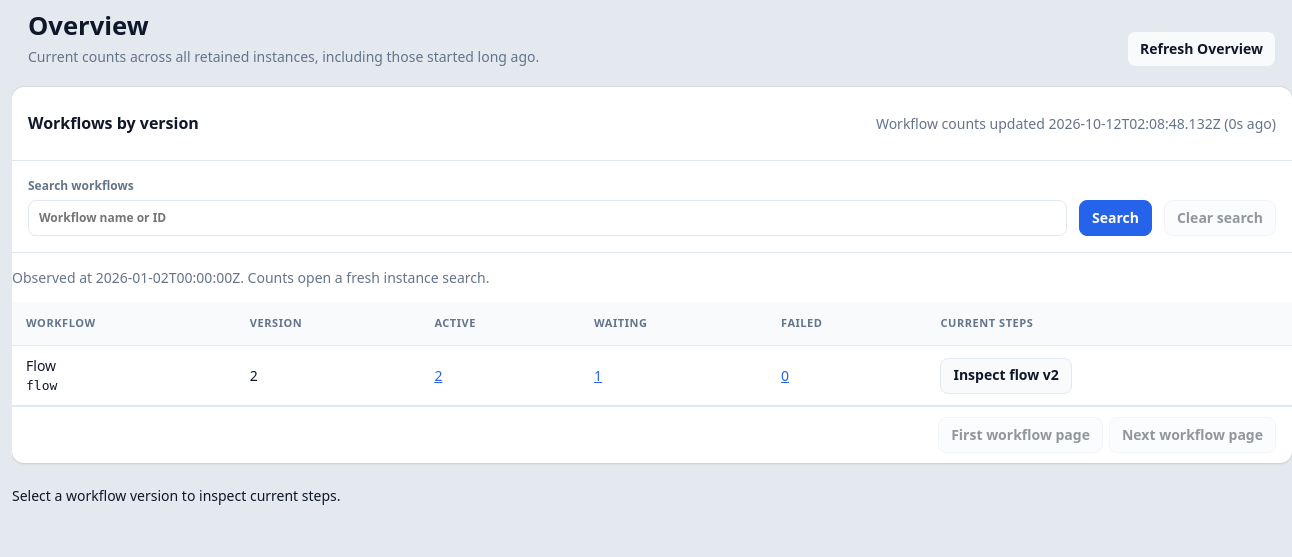
Test: retains counts after refresh errors and recovers without reporting a healthy zero
The image size is (1292, 557).
Check: the button "Inspect flow v2" is shown, box x1=940 y1=358 x2=1072 y2=394
Click the button "Refresh Overview" at (1202, 49), box x1=1127 y1=31 x2=1276 y2=67
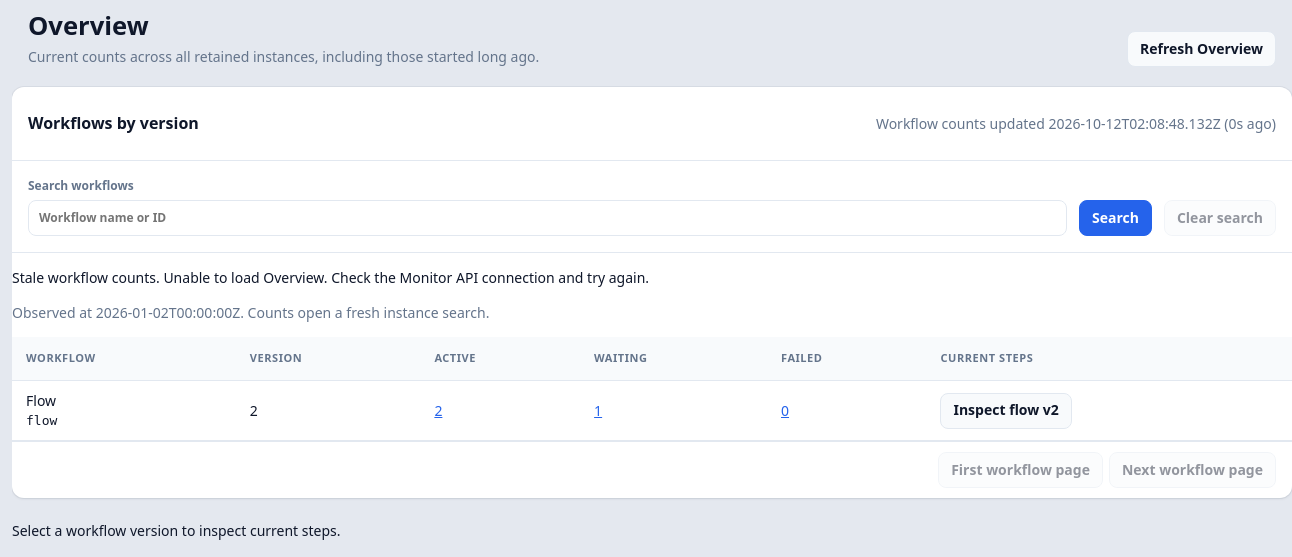
Check: the button "Inspect flow v2" is shown, box x1=940 y1=393 x2=1072 y2=429
Check: the text "Stale workflow counts" is shown, box x1=12 y1=268 x2=163 y2=287
Click the button "Refresh Overview" at (1202, 49), box x1=1127 y1=31 x2=1276 y2=67
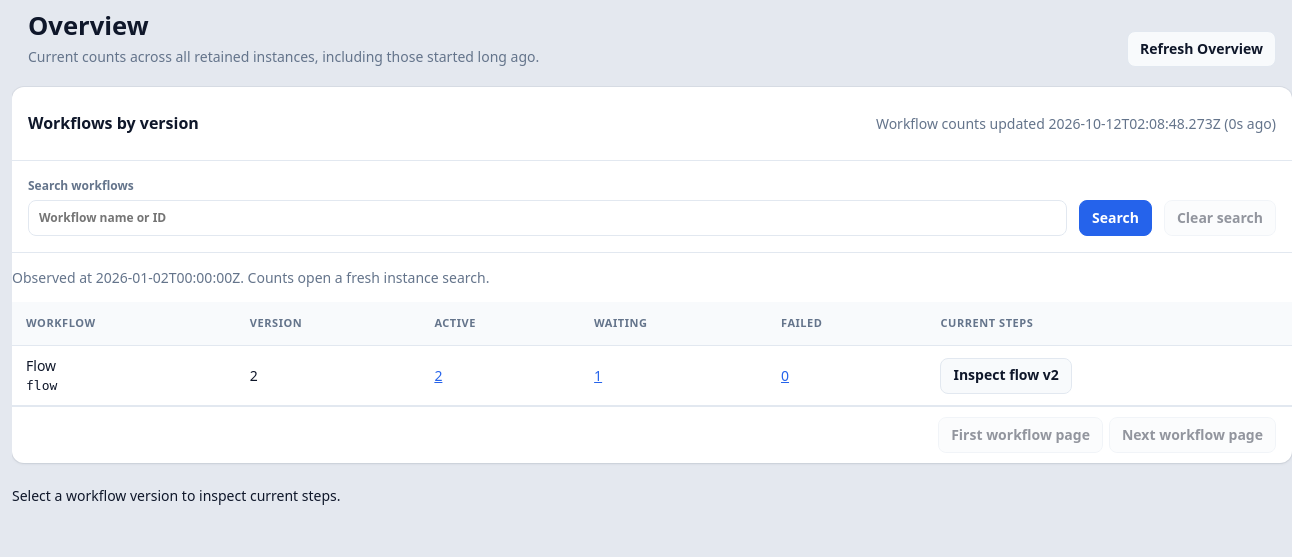
Check: the text "Stale workflow counts" is gone
